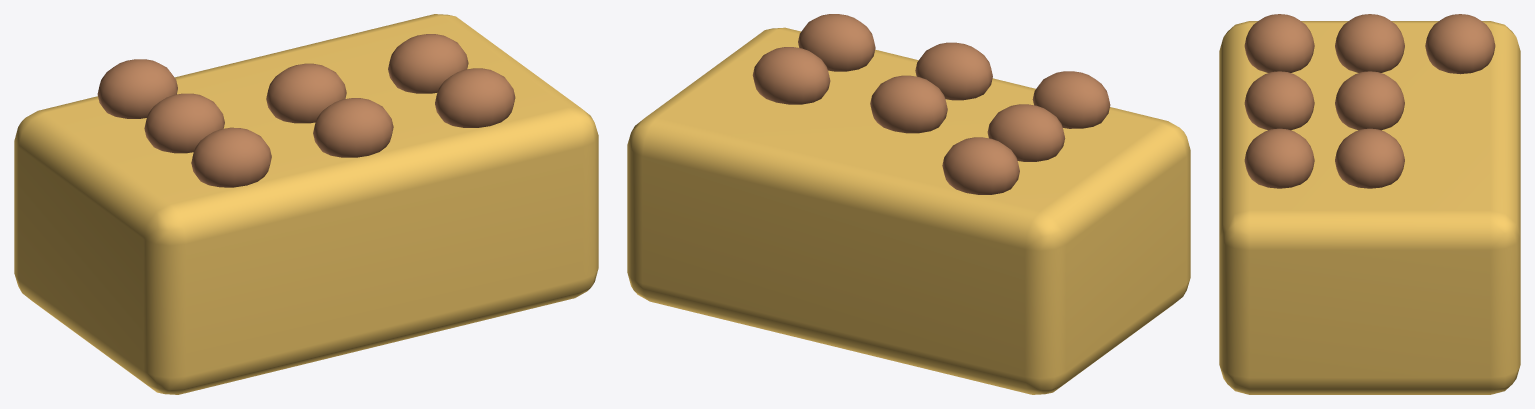
Rendered from ava-opposite-dirty.glb.
3 views of the same model, side by side, from view 1: azimuth 30°, elevation 25°; view 2: azimuth 150°, elevation 25°; view 3: azimuth 270°, elevation 25° (orthographic). The views are drawn at different scales.
Parts seen in each view (by area): view 1: sponge, mud, mud.001, mud.002, mud.003, mud.004, mud.005, mud.006; view 2: sponge, mud.004, mud.005, mud.006, mud.001, mud, mud.003, mud.002; view 3: sponge, mud.006, mud.002, mud.005, mud, mud.001, mud.003, mud.004.
Part boxes in pixels (<box>): sponge: <box>14,14,598,394</box>; mud: <box>191,127,271,187</box>; mud.001: <box>313,98,393,157</box>; mud.002: <box>435,68,515,127</box>; mud.003: <box>144,93,224,153</box>; mud.004: <box>266,63,346,123</box>; mud.005: <box>388,34,468,93</box>; mud.006: <box>97,59,177,118</box>; sponge: <box>627,27,1190,394</box>; mud.004: <box>870,75,947,133</box>; mud.005: <box>752,47,830,104</box>; mud.006: <box>942,137,1019,194</box>; mud.001: <box>915,42,992,100</box>; mud: <box>1032,71,1110,128</box>; mud.003: <box>987,104,1065,161</box>; mud.002: <box>798,14,875,71</box>; sponge: <box>1219,21,1520,394</box>; mud.006: <box>1425,14,1495,74</box>; mud.002: <box>1244,128,1314,188</box>; mud.005: <box>1335,128,1404,188</box>; mud: <box>1244,14,1314,72</box>; mud.001: <box>1244,71,1314,130</box>; mud.003: <box>1335,14,1404,72</box>; mud.004: <box>1335,71,1404,130</box>.
Size of the model in its own units: 1 by 0.49 by 0.6.
